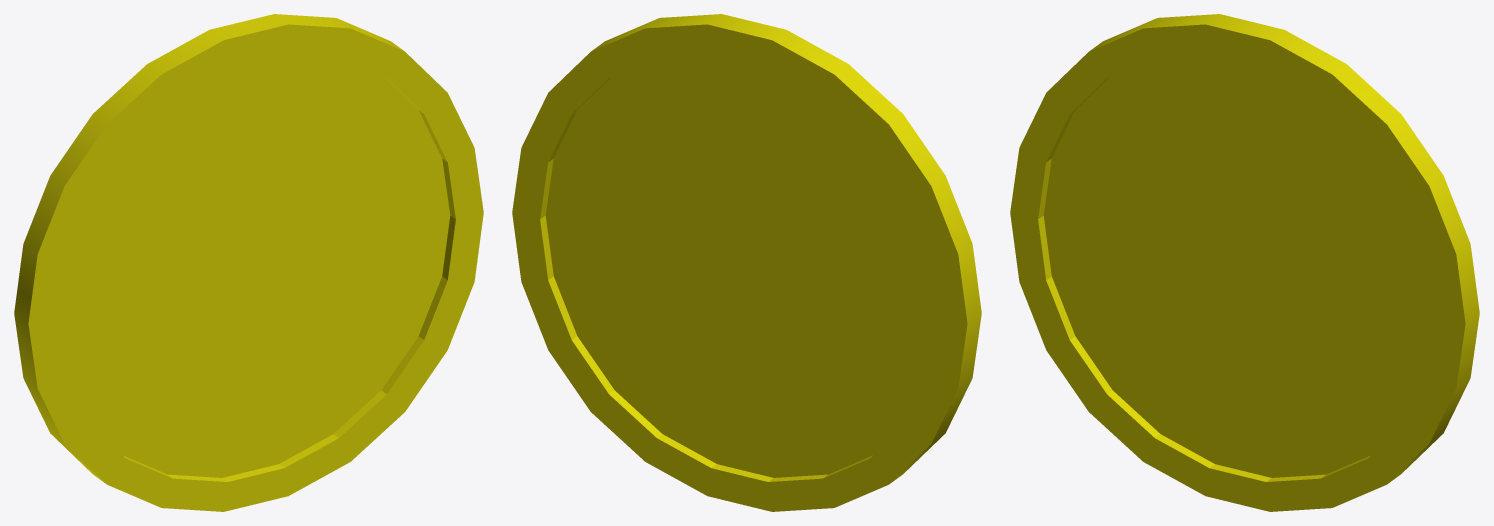
The model's file is Coin.FBX.
The picture shows the model from 3 angles, left to right: view 1: azimuth 30°, elevation 25°; view 2: azimuth 150°, elevation 25°; view 3: azimuth 330°, elevation 25°; orthographic projection.
Parts seen in each view (by area): view 1: Cylinder001; view 2: Cylinder001; view 3: Cylinder001.
Part boxes in pixels (x1,y1,x2,y2): Cylinder001: (14,14,483,511); Cylinder001: (512,14,981,511); Cylinder001: (1010,14,1479,511).
Bounding box in the file's own units: 27.39 × 27.11 × 1.49.
